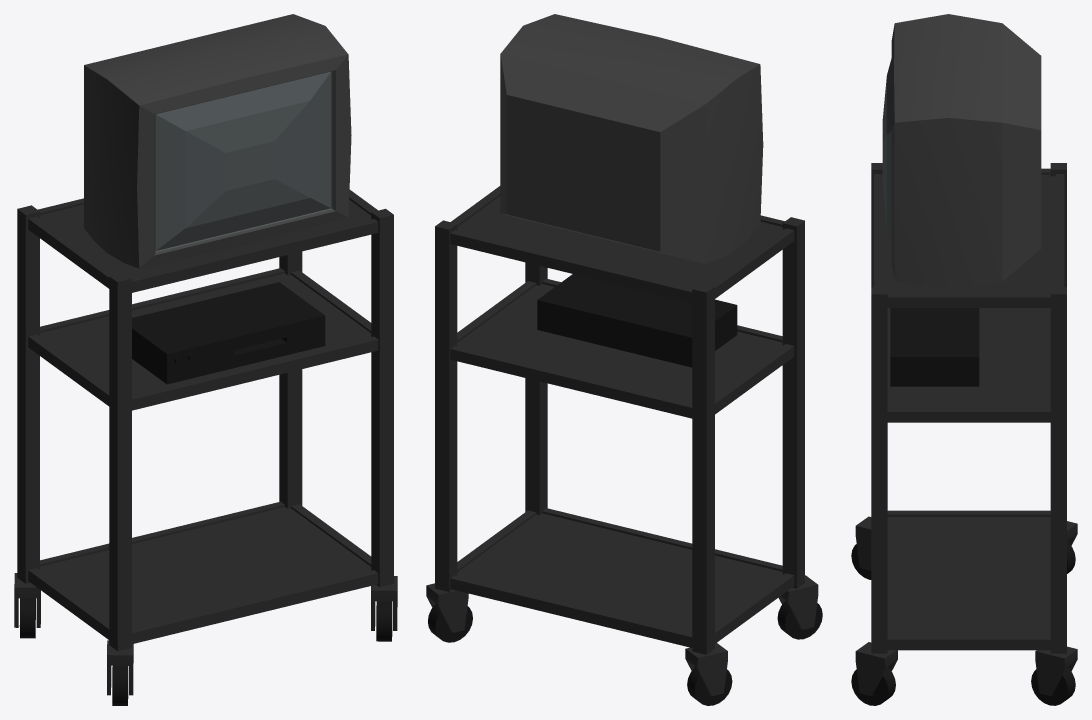
The model's file is TVStand_FBX.fbx.
The picture shows the model from 3 angles, left to right: view 1: azimuth 30°, elevation 25°; view 2: azimuth 150°, elevation 25°; view 3: azimuth 270°, elevation 25°; orthographic projection. The views are drawn at different scales.
Visible parts, largest first — view 1: pCube14; view 2: pCube14; view 3: pCube14.
Part boxes in pixels (left/top/right/bottom): pCube14: left=14, top=14, right=397, bottom=705; pCube14: left=426, top=14, right=822, bottom=705; pCube14: left=851, top=14, right=1077, bottom=705.
Bounding box in the file's own units: 42.19 × 79.87 × 28.38.
Materials: 1 (1 with a texture image).
